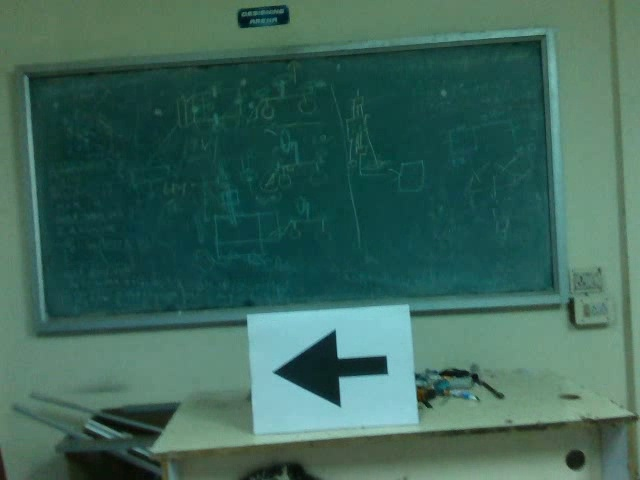Left: (267, 324, 390, 411)
